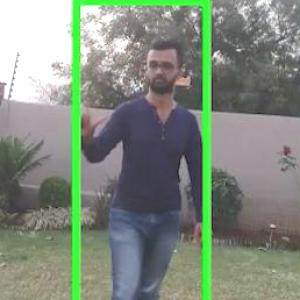land_hand: (70, 96, 113, 146)
